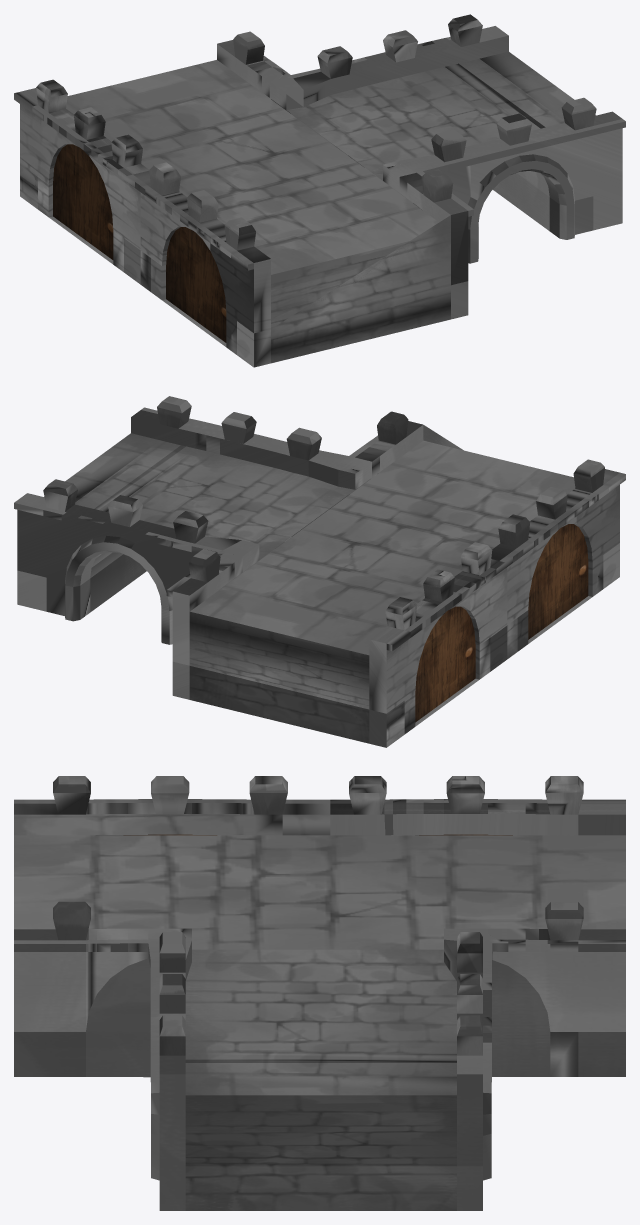
File: T_rode_test.FBX
3 views of the same model, one above another, from view 1: azimuth 30°, elevation 25°; view 2: azimuth 150°, elevation 25°; view 3: azimuth 270°, elevation 25° (orthographic). The views are drawn at different scales.
Visible parts, largest first — view 1: Tube022; view 2: Tube022; view 3: Tube022.
Part boxes in pixels (x1=…): Tube022: x1=14, y1=14, x2=625, y2=367; Tube022: x1=14, y1=396, x2=625, y2=747; Tube022: x1=14, y1=776, x2=625, y2=1210.
Bounding box in the file's own units: 512 × 144 × 483.
1 material, 1 textured.
